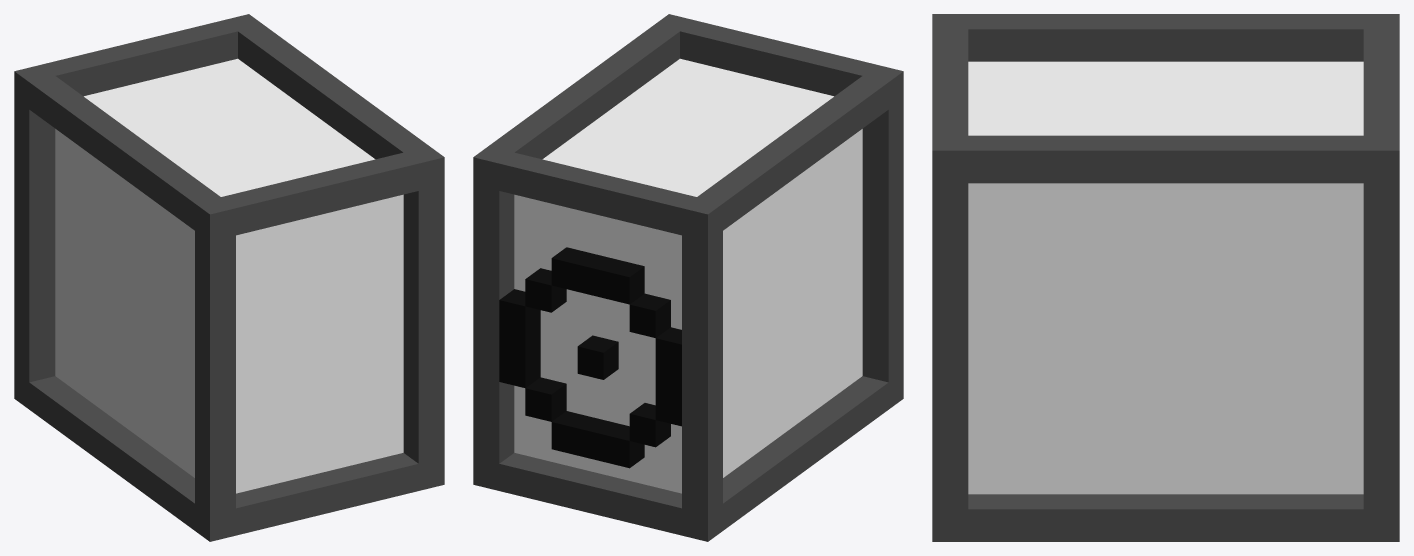
The model's file is Cannon Right.fbx.
The picture shows the model from 3 angles, left to right: view 1: azimuth 30°, elevation 25°; view 2: azimuth 150°, elevation 25°; view 3: azimuth 270°, elevation 25°; orthographic projection. The views are drawn at different scales.
Parts seen in each view (by area): view 1: Cannon Right; view 2: Cannon Right; view 3: Cannon Right.
Part boxes in pixels (bbox=[...]): Cannon Right: bbox=[14, 14, 444, 541]; Cannon Right: bbox=[473, 14, 903, 541]; Cannon Right: bbox=[932, 14, 1399, 541].
Size of the model in its own units: 90 by 130 by 120.
Materials: 1 (1 with a texture image).
